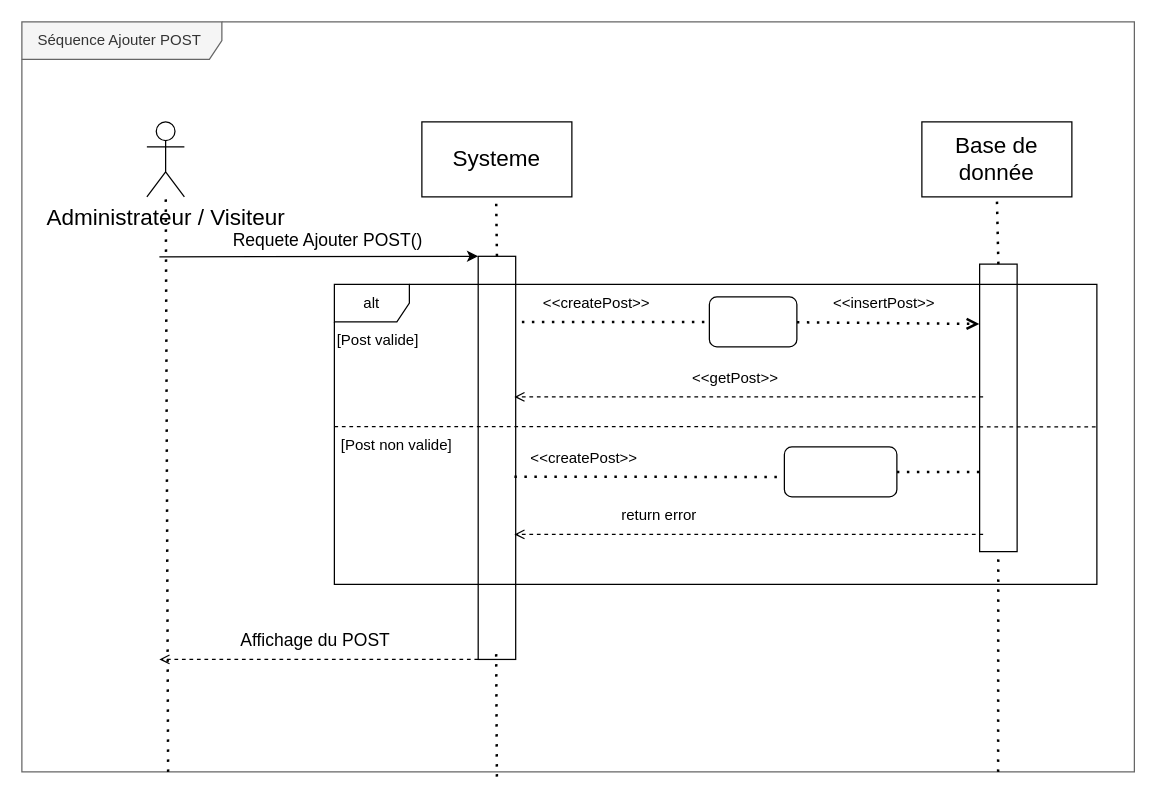
This 1156x801 diagram has some shape labels left out. Each missing label, with the centre of its shape:
POST données: the point at 752,321
POST données non valide: the point at 840,471
